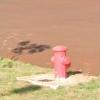a fire hydrant: (48, 44, 72, 81)
